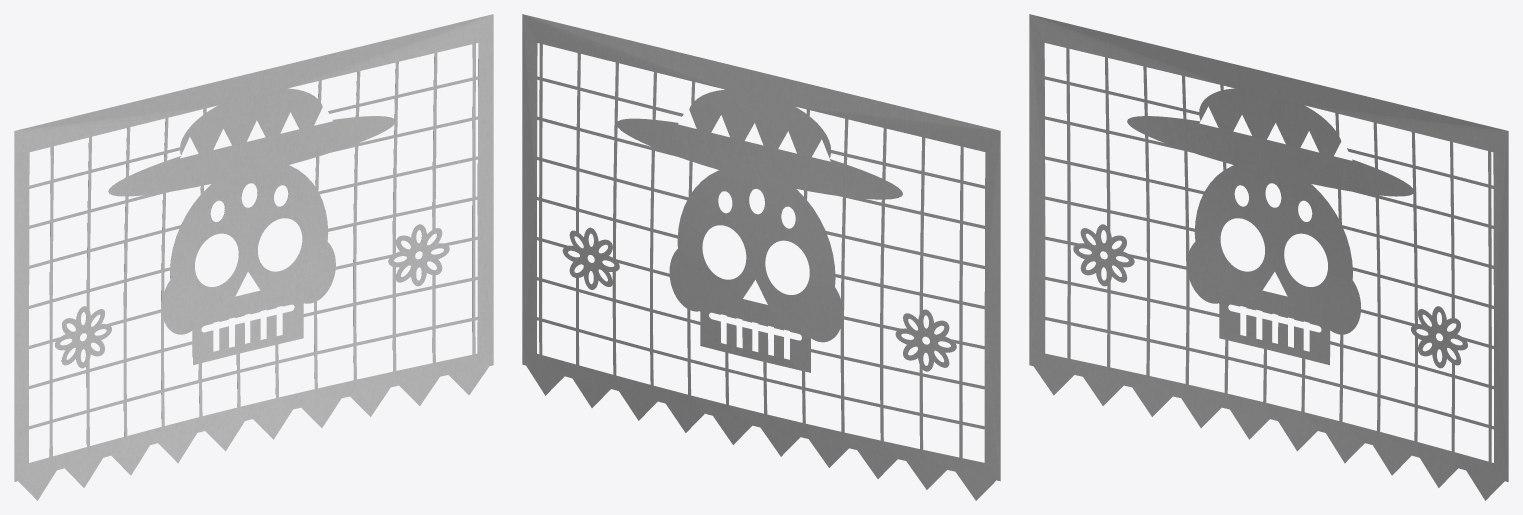
The model's file is papel_3.gltf.
The picture shows the model from 3 angles, left to right: view 1: azimuth 30°, elevation 25°; view 2: azimuth 150°, elevation 25°; view 3: azimuth 330°, elevation 25°; orthographic projection.
Parts seen in each view (by area): view 1: papel_3; view 2: papel_3; view 3: papel_3.
Part boxes in pixels (x1,y1,x2,y2): papel_3: [14, 14, 493, 500]; papel_3: [522, 14, 1000, 500]; papel_3: [1029, 14, 1508, 500].
Size of the model in its own units: 0.4 by 0.3 by 0.00915.
Materials: 1 (1 with a texture image).
